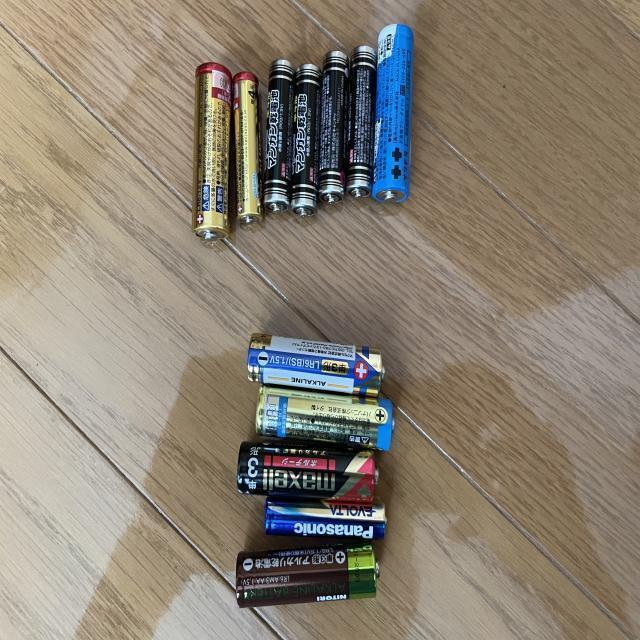Hazard: (242, 330, 394, 407), (228, 546, 384, 611), (232, 437, 384, 503), (370, 18, 420, 212), (251, 391, 401, 454), (192, 58, 238, 249), (226, 64, 269, 229), (258, 56, 296, 222), (288, 60, 326, 222), (260, 498, 390, 545), (344, 38, 378, 210), (317, 48, 352, 210)
